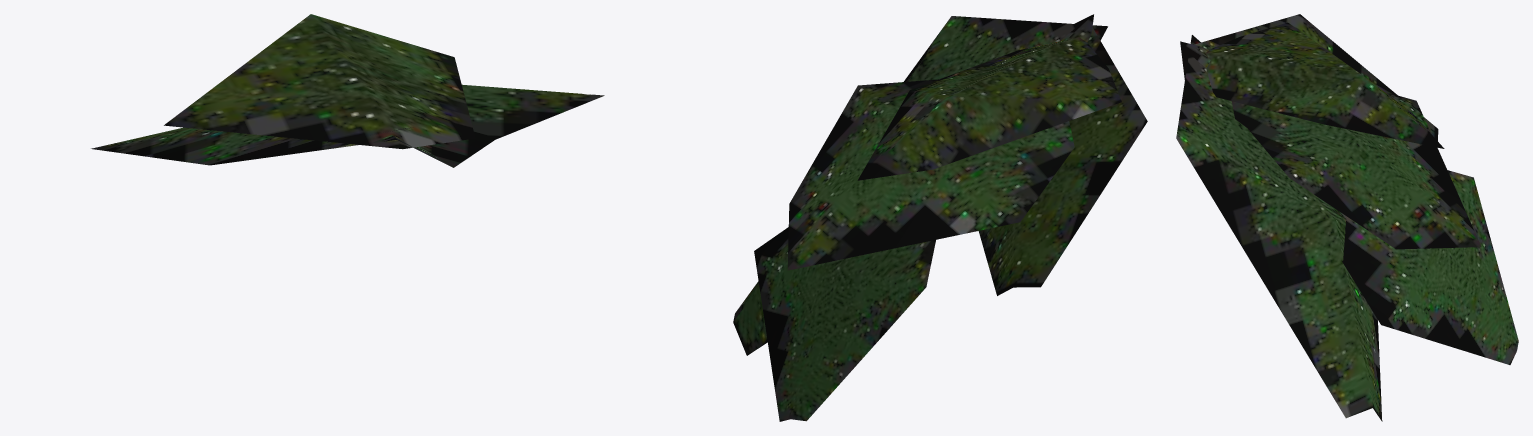
The model's file is scotm_TELEMA_NAT_Juniper_Wall_A-transformed.glb.
3 renders of one model, left to right at view 1: azimuth 30°, elevation 25°; view 2: azimuth 150°, elevation 25°; view 3: azimuth 270°, elevation 25°, orthographic. The views are drawn at different scales.
Parts seen in each view (by area): view 1: default; view 2: default; view 3: default.
Boxes of the visible parts, x1=… form: default: x1=91, y1=14, x2=604, y2=167; default: x1=733, y1=14, x2=1147, y2=421; default: x1=1176, y1=14, x2=1518, y2=421.
Bounding box in the file's own units: 0.9524 × 0.7422 × 0.824.
Materials: 1 (1 with a texture image).
